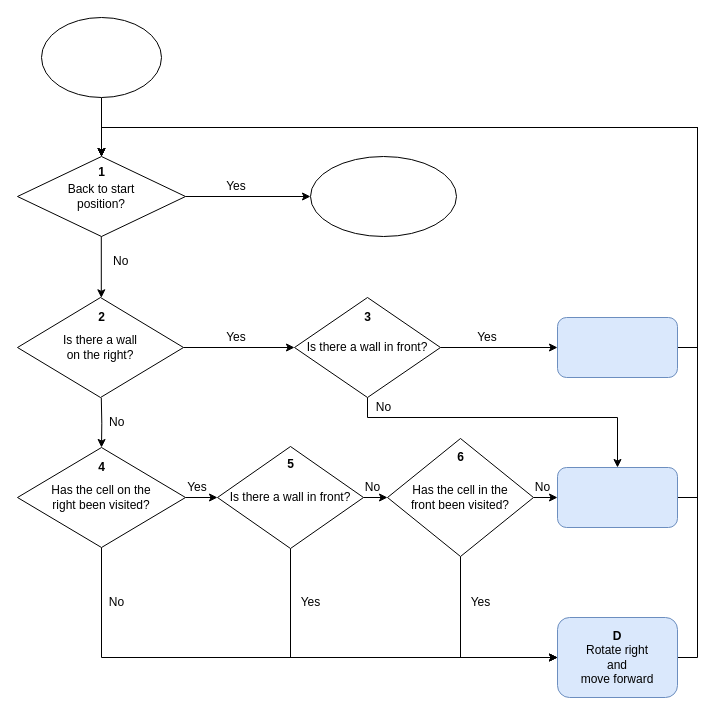
This 723x715 diagram has some shape labels left out. The box of each missing label's shape, as (x1, y1, x2, y2) in pixels:
A Stop exploration: (310, 156, 456, 236)
B Rotate left: (556, 316, 678, 378)
C Move forward: (556, 466, 678, 528)
START Location: (1, 1) Direction: East: (40, 16, 162, 98)
